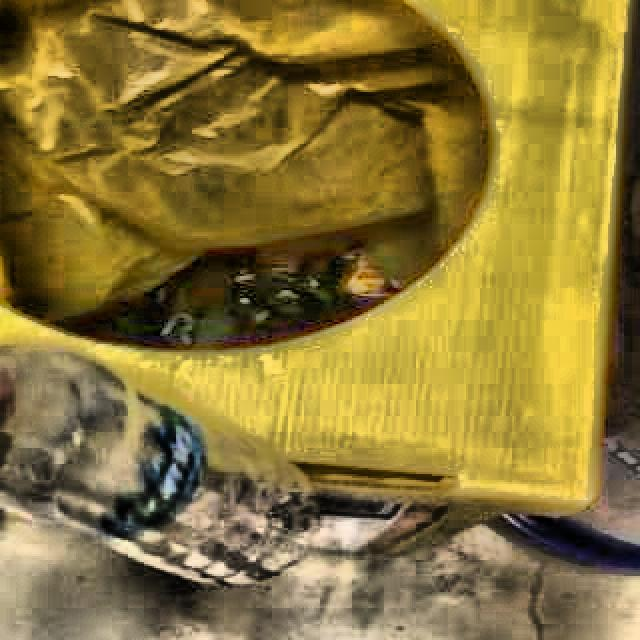plastic: (0, 348, 315, 585)
